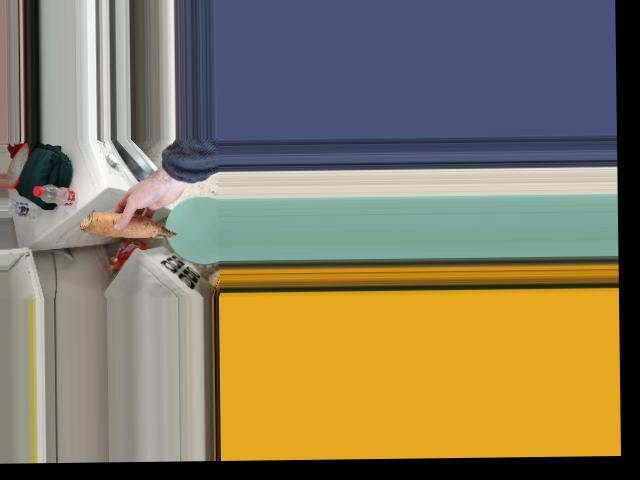sweet_potato: (80, 209, 172, 237)
